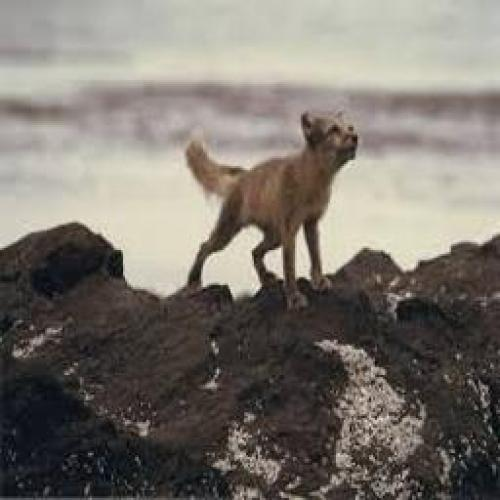arctic_fox-endangered: (180, 107, 358, 316)
